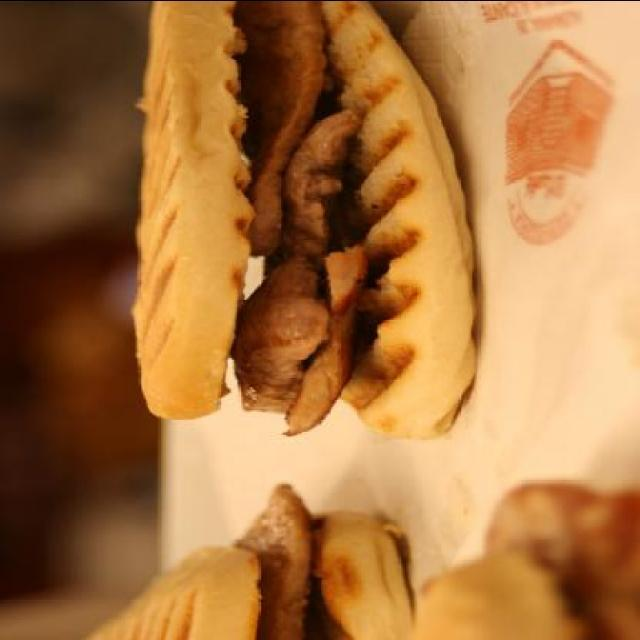Sandwich: (129, 1, 480, 444), (76, 483, 413, 640), (412, 480, 640, 640)
